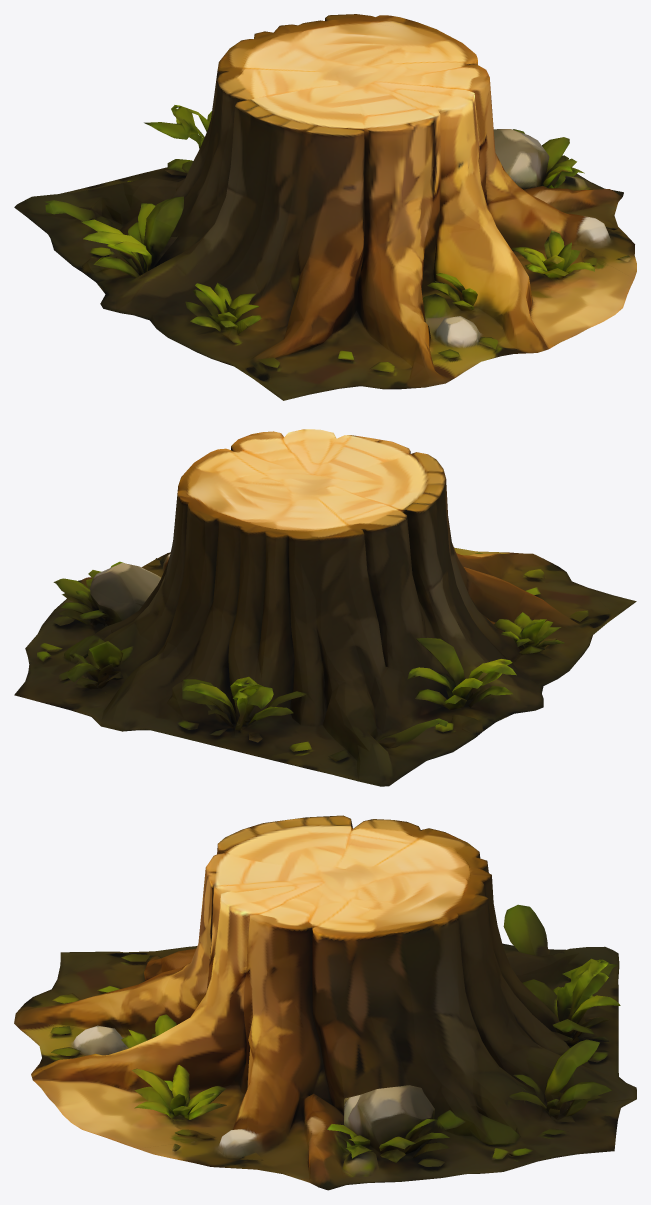
Rendered from tronco.fbx.
3 renders of one model, top to bottom at view 1: azimuth 30°, elevation 25°; view 2: azimuth 150°, elevation 25°; view 3: azimuth 270°, elevation 25°, orthographic. The views are drawn at different scales.
Visible parts, largest first — view 1: model; view 2: model; view 3: model.
Boxes of the visible parts, x1=… form: model: x1=14, y1=14, x2=636, y2=400; model: x1=14, y1=429, x2=636, y2=786; model: x1=14, y1=815, x2=636, y2=1190.
Size of the model in its own units: 172 by 56.78 by 175.
